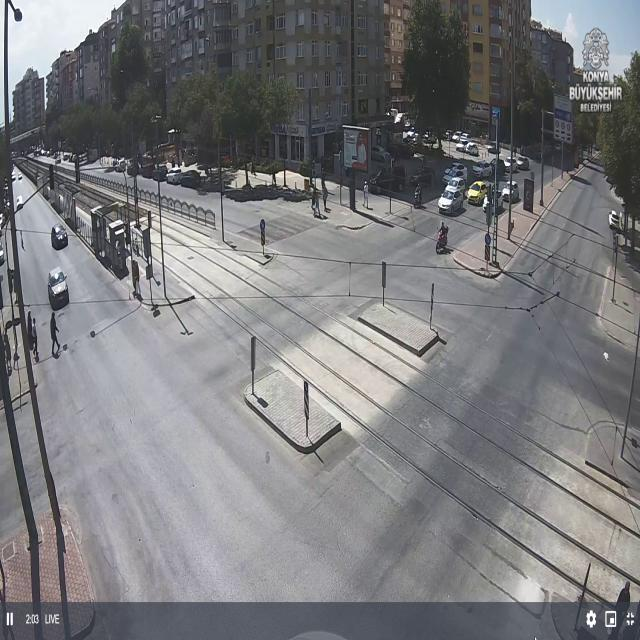Car: (47, 267, 71, 308), (438, 186, 464, 214), (466, 180, 488, 206), (443, 163, 467, 185), (177, 170, 204, 188), (51, 224, 69, 249), (500, 181, 520, 203), (472, 161, 494, 178), (489, 159, 507, 178), (508, 156, 530, 170), (166, 169, 185, 185), (609, 210, 622, 230), (152, 166, 168, 181), (465, 142, 479, 156), (455, 141, 469, 152)
Cycle: (437, 220, 450, 252), (414, 182, 422, 208)
